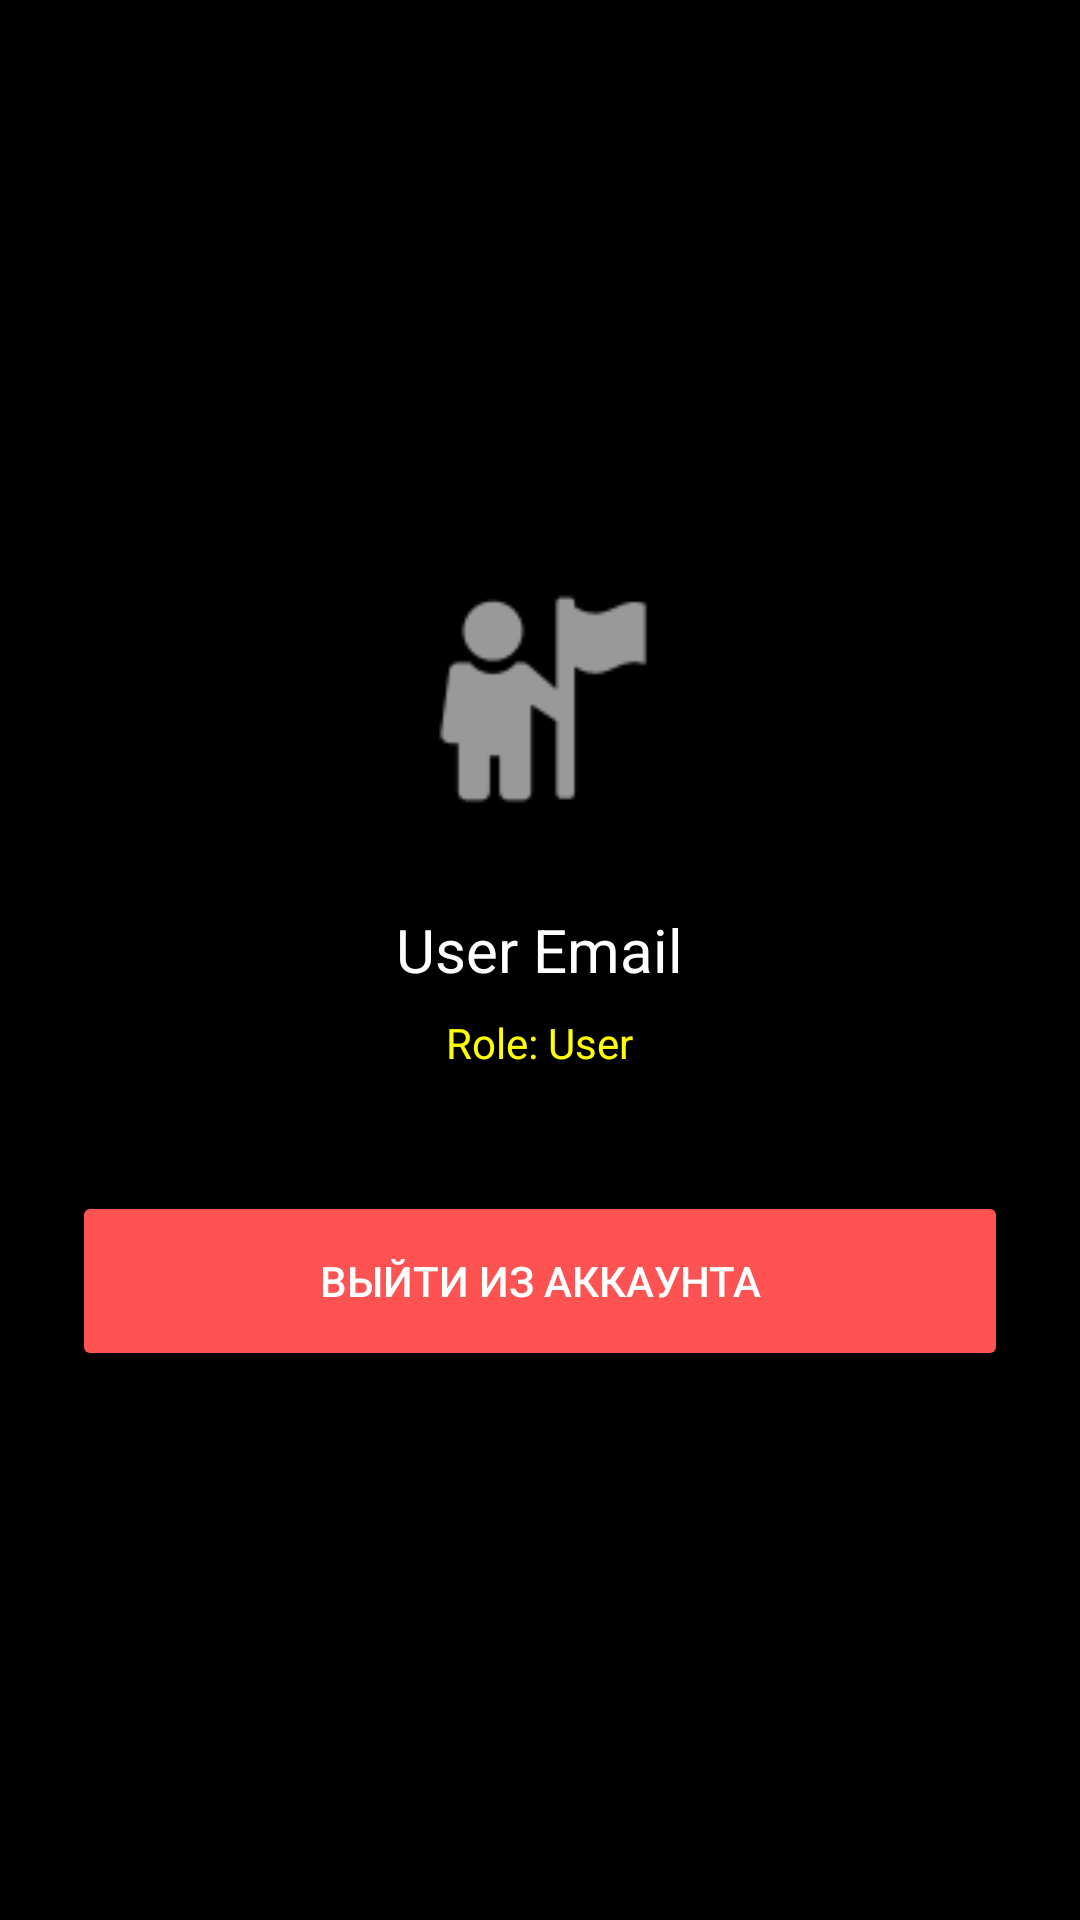

Named icons in this screenshot (1080 × 1920) and their bounding boxes, (x1, y1, x2, y2):
myplaces: (439, 596, 647, 802)
